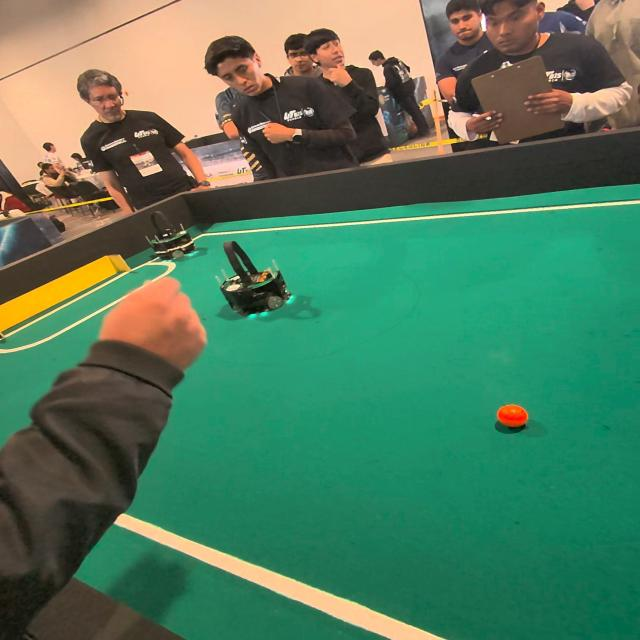Robot: (209, 238, 297, 326), (140, 196, 202, 261)
pelota: (498, 406, 531, 432)
